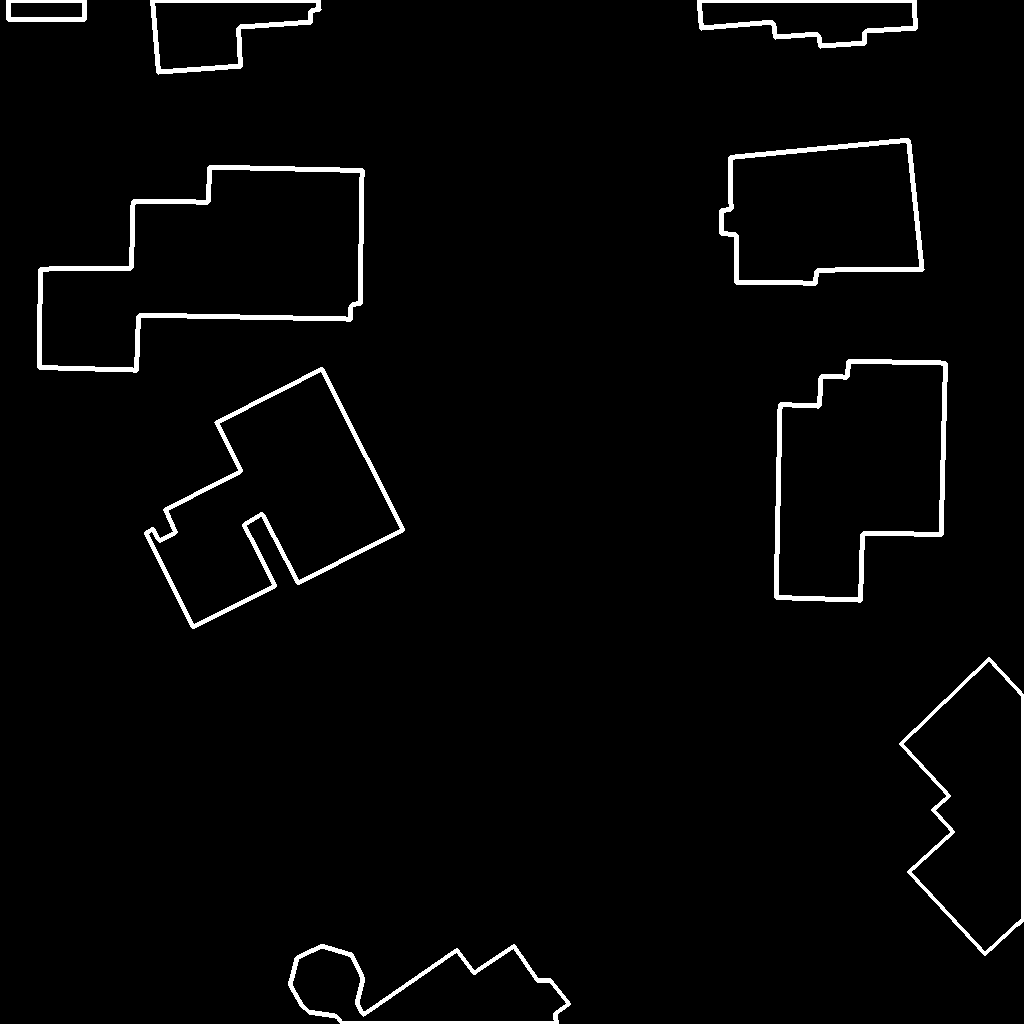building: (146, 369, 404, 628), (39, 167, 363, 371), (776, 361, 947, 601), (901, 659, 1024, 955), (721, 140, 923, 284), (290, 946, 570, 1024), (152, 0, 320, 73), (699, 0, 917, 47), (8, 0, 86, 20)
